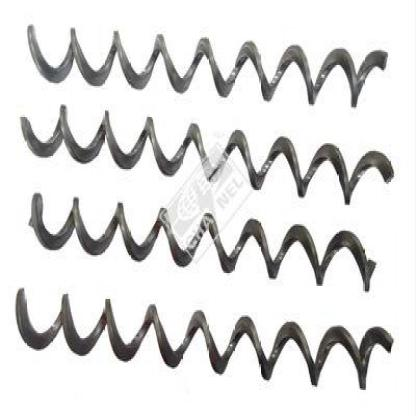FOD: (14, 284, 396, 396), (18, 102, 395, 207), (26, 184, 379, 294), (25, 22, 388, 111)
